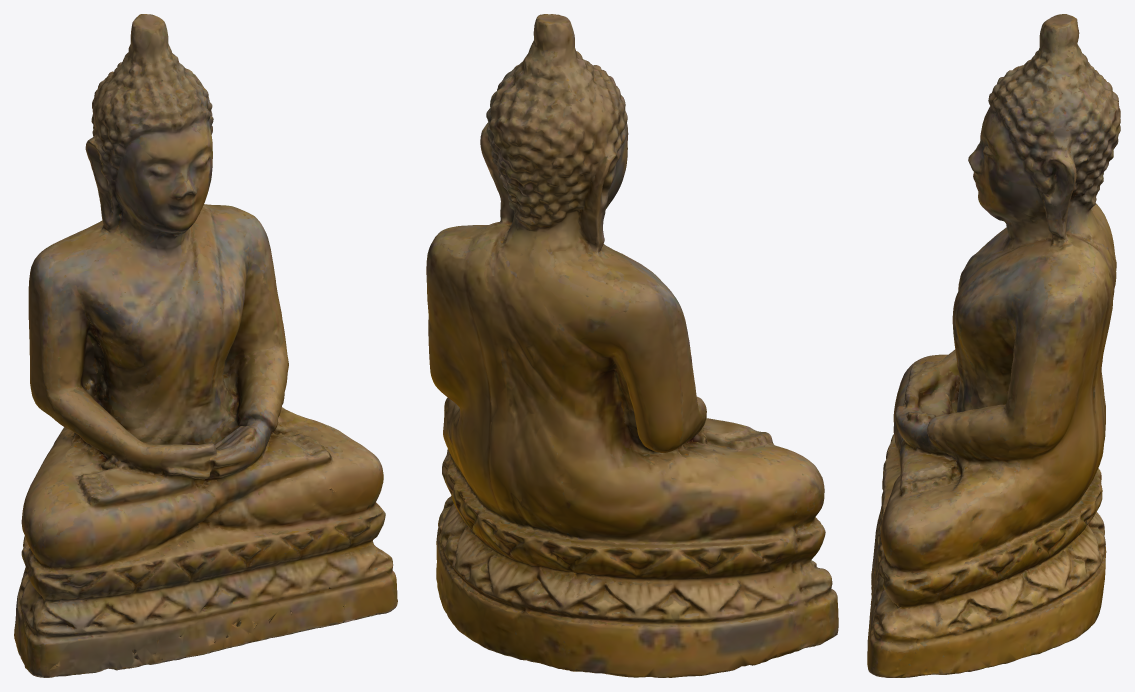
The model's file is statue2.glb.
The picture shows the model from 3 angles, left to right: view 1: azimuth 30°, elevation 25°; view 2: azimuth 150°, elevation 25°; view 3: azimuth 270°, elevation 25°; orthographic projection. The views are drawn at different scales.
Parts seen in each view (by area): view 1: Stereo textured mesh_Material0_0; view 2: Stereo textured mesh_Material0_0; view 3: Stereo textured mesh_Material0_0.
Part boxes in pixels (x1,y1,x2,y2): Stereo textured mesh_Material0_0: [14, 14, 397, 677]; Stereo textured mesh_Material0_0: [426, 14, 838, 677]; Stereo textured mesh_Material0_0: [867, 14, 1120, 677].
Size of the model in its own units: 0.643 by 0.9962 by 0.3927.
1 material, 1 textured.
